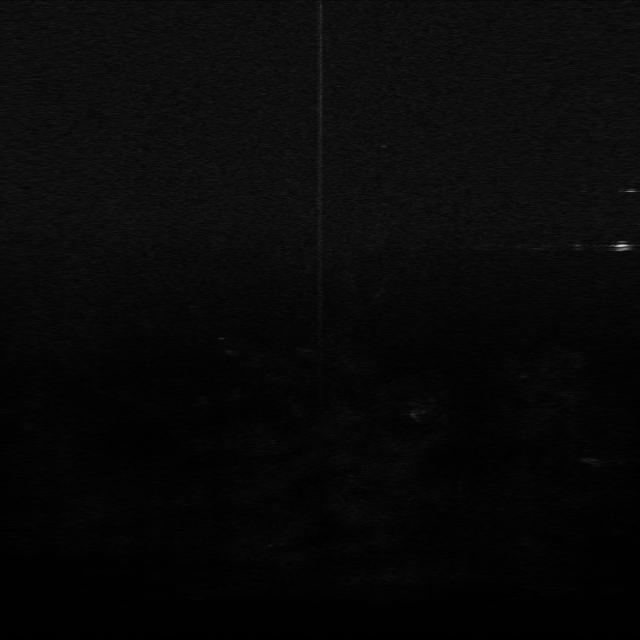rov: (611, 236, 633, 257)
